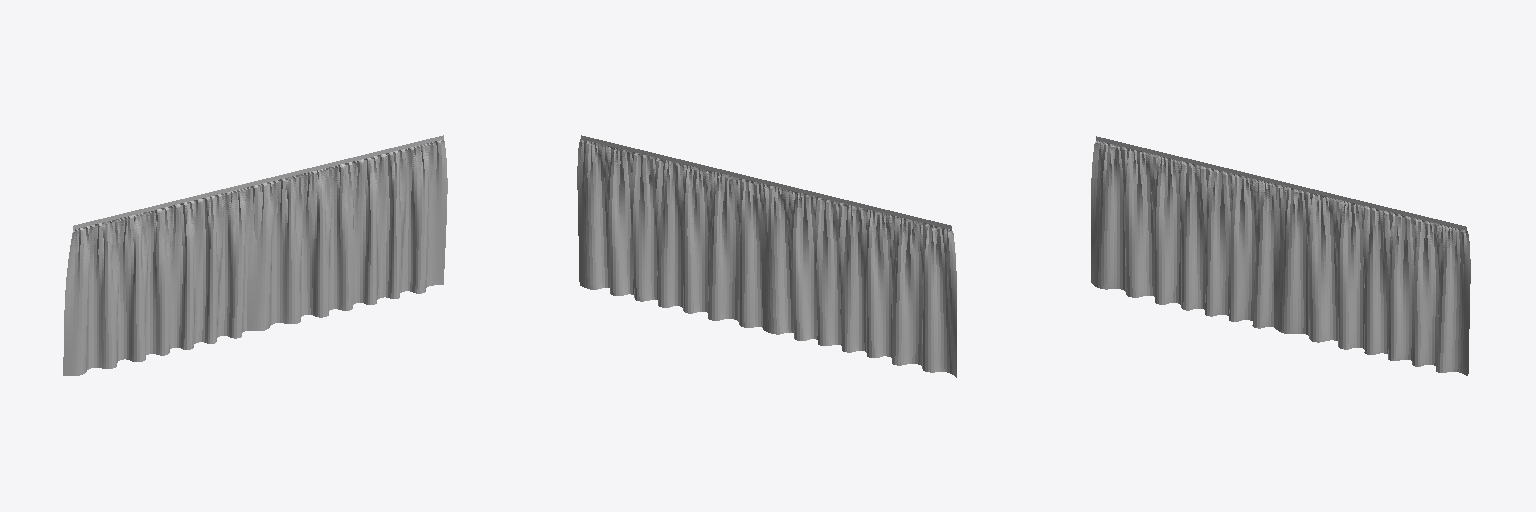
Rendered from curtain.obj.
The picture shows the model from 3 angles: view 1: azimuth 30°, elevation 25°; view 2: azimuth 150°, elevation 25°; view 3: azimuth 330°, elevation 25°; orthographic projection.
Visible parts, largest first — view 1: curtain.001, curtain.002; view 2: curtain.002, curtain.001; view 3: curtain.001, curtain.002.
Boxes of the visible parts, x1=… form: curtain.001: x1=247, y1=135, x2=447, y2=330; curtain.002: x1=63, y1=180, x2=262, y2=375; curtain.002: x1=761, y1=181, x2=956, y2=377; curtain.001: x1=577, y1=135, x2=768, y2=327; curtain.001: x1=1274, y1=181, x2=1470, y2=375; curtain.002: x1=1091, y1=136, x2=1285, y2=328.
Size of the model in its own units: 19.4 by 7.28 by 0.6354.